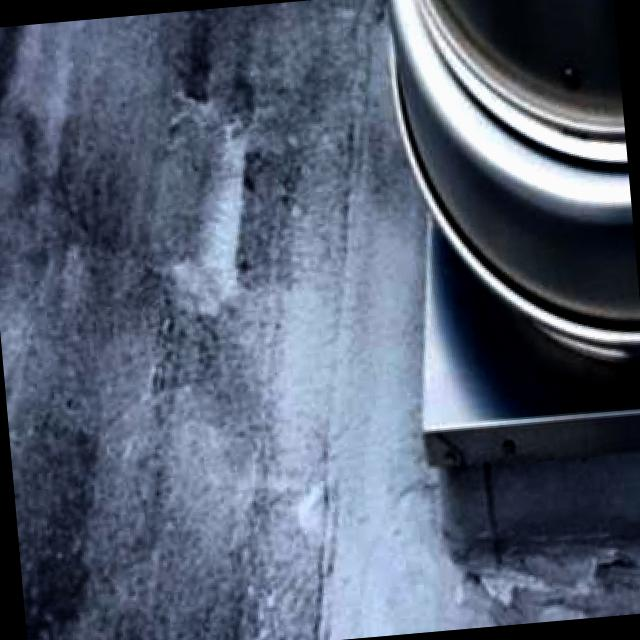GRAVITY-VENT: (360, 0, 640, 531)
